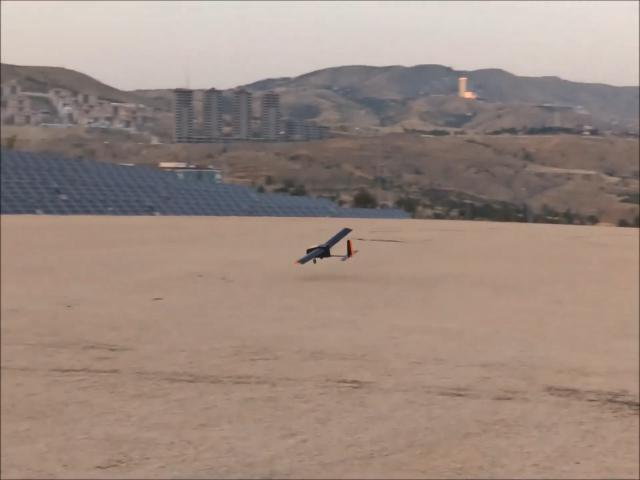insansiz-hava-araci: (294, 228, 358, 265)
